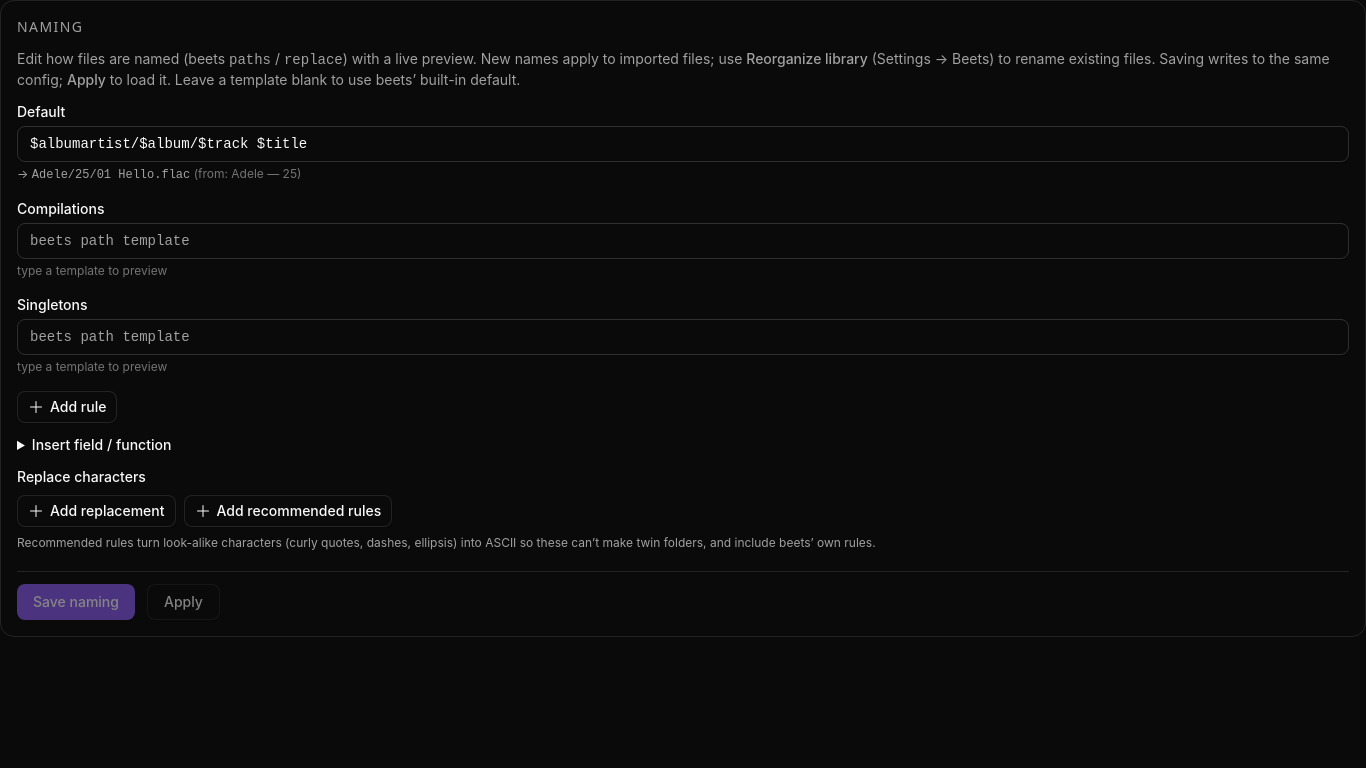
Add rule reveals a custom query input
expect the field showing "$albumartist" is shown: met, box [17,126,1349,162]
Click the button "Add rule" at (67, 407), box [17,391,118,423]
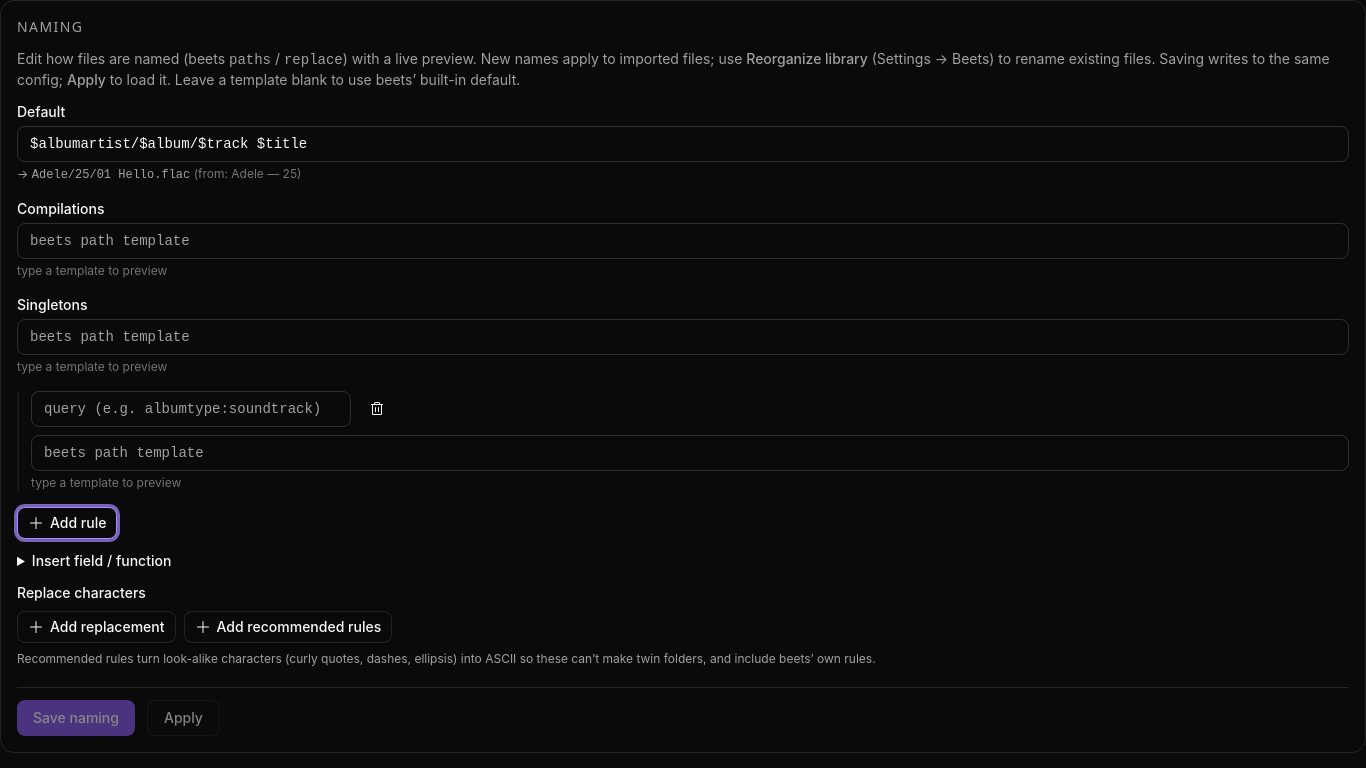
expect the field named "custom rule 1 query" is shown: met, box [31,391,351,427]
